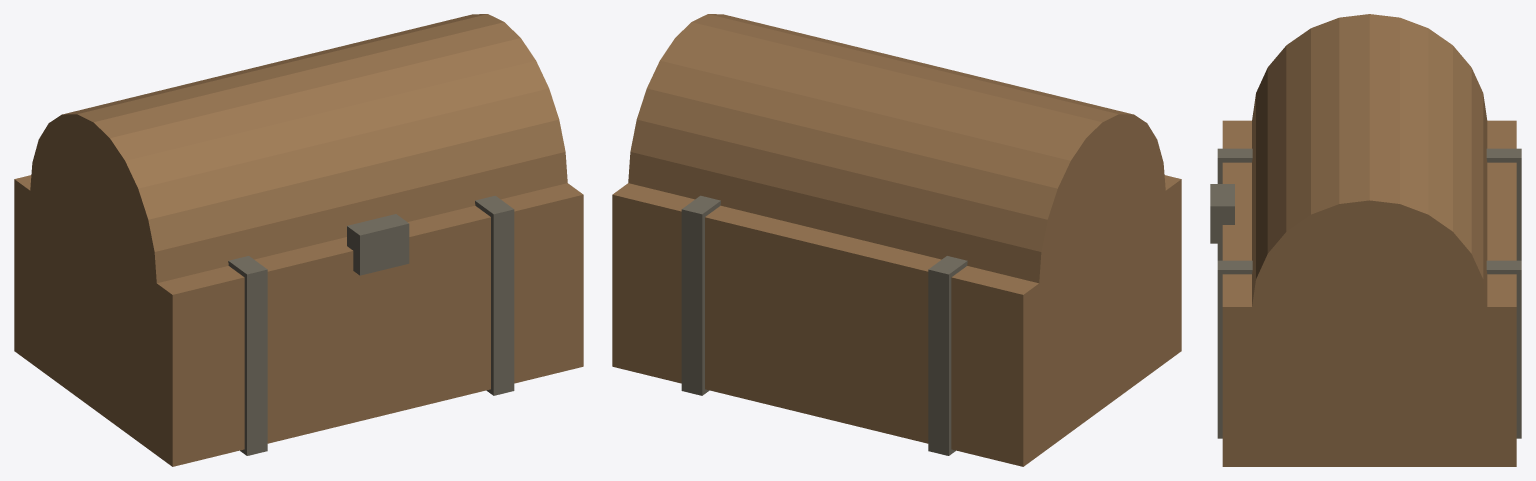
3 renders of one model, left to right at view 1: azimuth 30°, elevation 25°; view 2: azimuth 150°, elevation 25°; view 3: azimuth 270°, elevation 25°, orthographic. The views are drawn at different scales.
Parts seen in each view (by area): view 1: chest; view 2: chest; view 3: chest.
Boxes of the visible parts, x1,y1,x2,y2 form: chest: (14, 14, 583, 466); chest: (612, 14, 1181, 466); chest: (1210, 14, 1521, 466).
Size of the model in its own units: 0.9 by 0.61 by 0.635.
